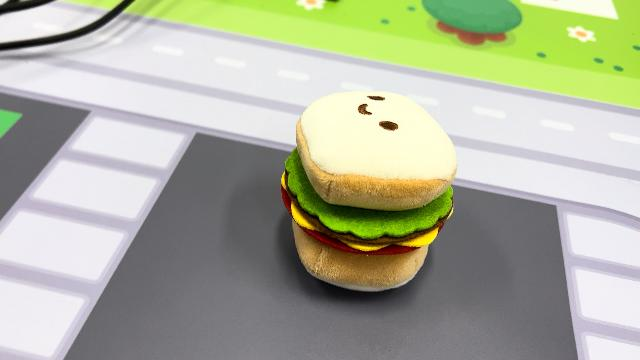sandwich: (277, 87, 459, 293)
